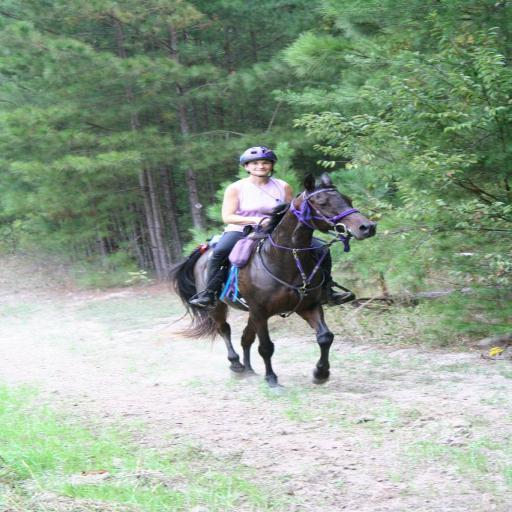horse: (174, 169, 378, 389)
